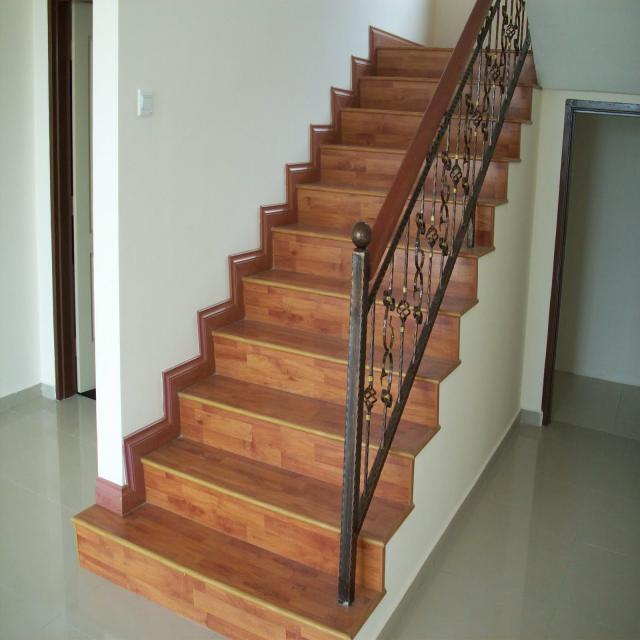stairs: (71, 11, 539, 640)
